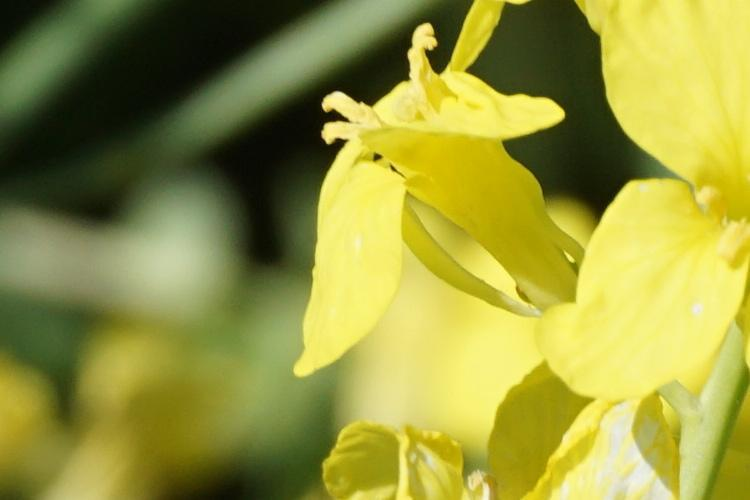yellow: (303, 46, 580, 340), (581, 19, 750, 410), (293, 397, 685, 498)
